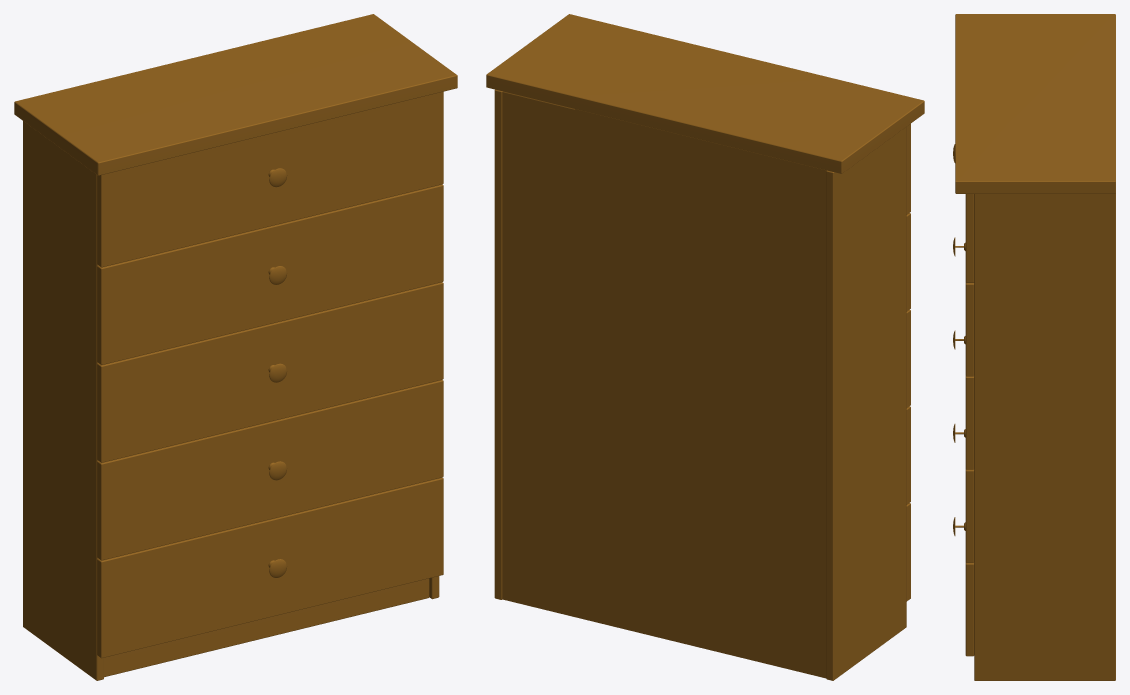
Rendered from cabinet old dirty.fbx.
3 views of the same model, side by side, from view 1: azimuth 30°, elevation 25°; view 2: azimuth 150°, elevation 25°; view 3: azimuth 270°, elevation 25° (orthographic). The views are drawn at different scales.
Visible parts, largest first — view 1: Cube.001; view 2: Cube.001; view 3: Cube.001.
Part boxes in pixels (x1=…): Cube.001: x1=14, y1=14, x2=457, y2=680; Cube.001: x1=486, y1=14, x2=924, y2=680; Cube.001: x1=953, y1=14, x2=1115, y2=680.
Size of the model in its own units: 271 by 380 by 111.
